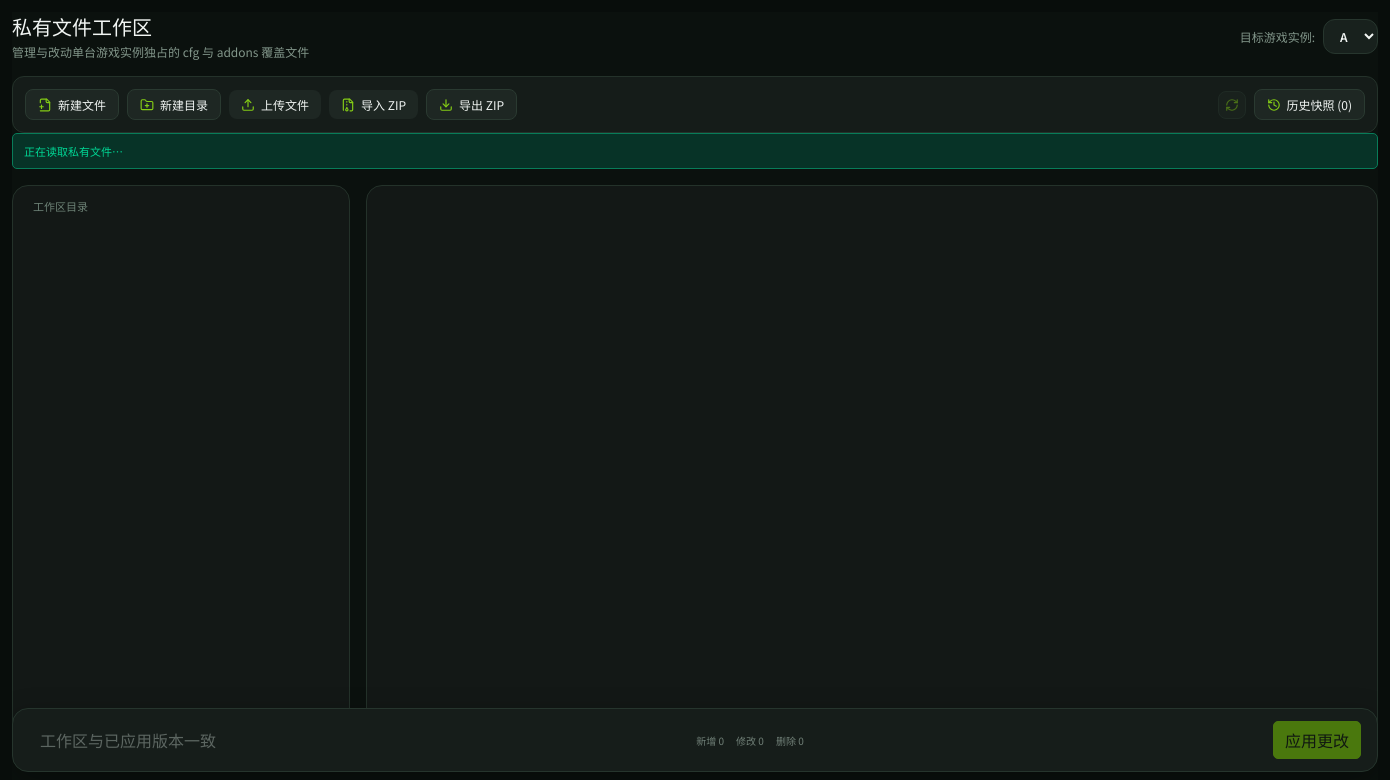
Test: PrivateFilesPage › ignores a deferred instance response after switching instances
The image size is (1390, 780).
Select "B" in the dropdown named "目标实例". click: (1350, 36)
box: [1323,18,1378,54]
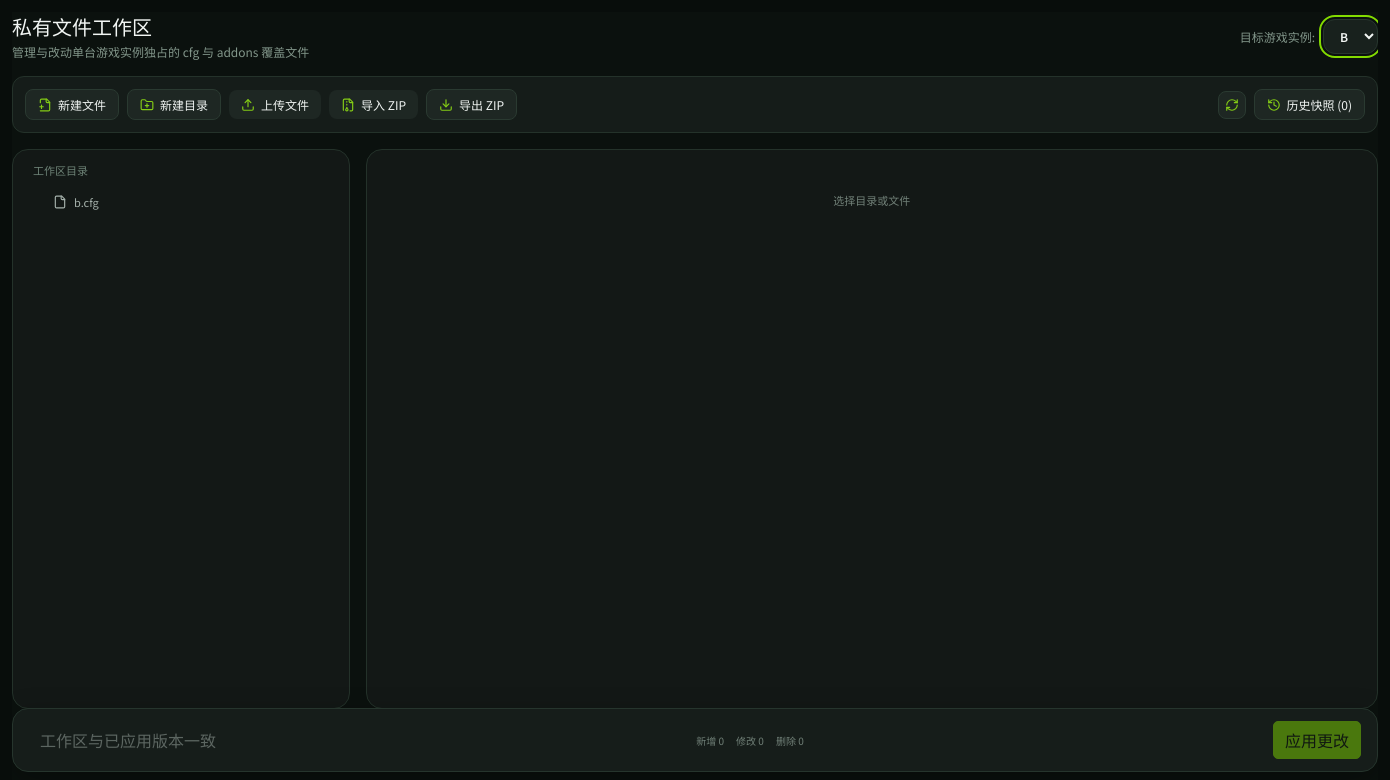
Expected: the list item "b.cfg" is shown, [25,186,336,218]
